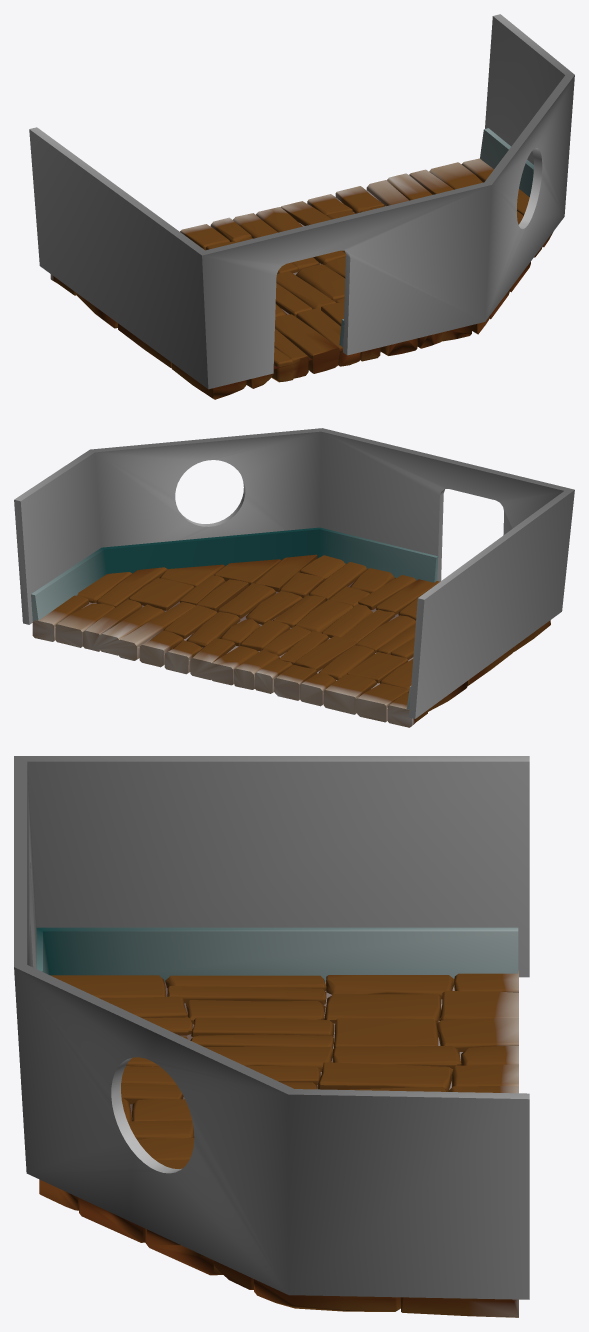
Rendered from Room HALF.fbx.
The picture shows the model from 3 angles, top to bottom: view 1: azimuth 30°, elevation 25°; view 2: azimuth 150°, elevation 25°; view 3: azimuth 270°, elevation 25°; orthographic projection. The views are drawn at different scales.
Parts seen in each view (by area): view 1: stash1; view 2: stash1; view 3: stash1.
Part boxes in pixels (x1,y1,x2,y2): stash1: [29, 14, 574, 399]; stash1: [14, 428, 574, 727]; stash1: [14, 756, 529, 1317].
Bounding box in the file's own units: 6.36 × 2.02 × 4.4.
